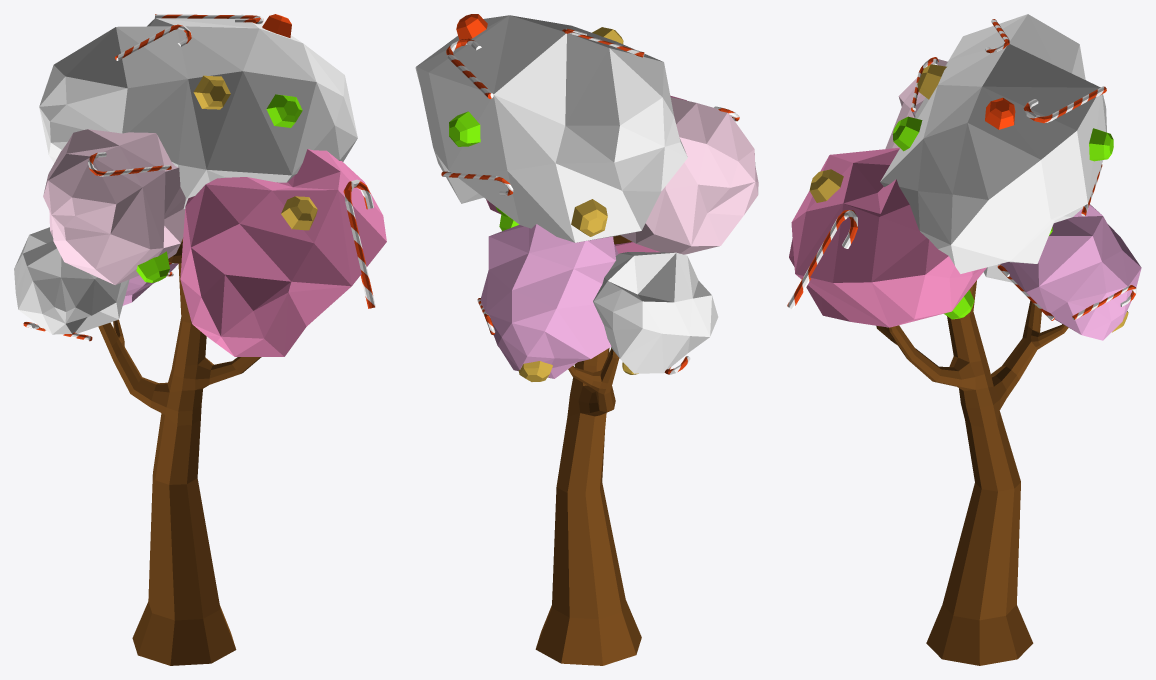
Rendered from Tree1.fbx.
The picture shows the model from 3 angles, left to right: view 1: azimuth 30°, elevation 25°; view 2: azimuth 150°, elevation 25°; view 3: azimuth 270°, elevation 25°; orthographic projection. The views are drawn at different scales.
Parts seen in each view (by area): view 1: Tree_1; view 2: Tree_1; view 3: Tree_1.
Part boxes in pixels (left/top/right/bottom): Tree_1: left=14, top=14, right=386, bottom=665; Tree_1: left=415, top=14, right=758, bottom=665; Tree_1: left=787, top=14, right=1141, bottom=665.
Bounding box in the file's own units: 15.46 × 28.83 × 15.23.
Materials: 1 (1 with a texture image).
